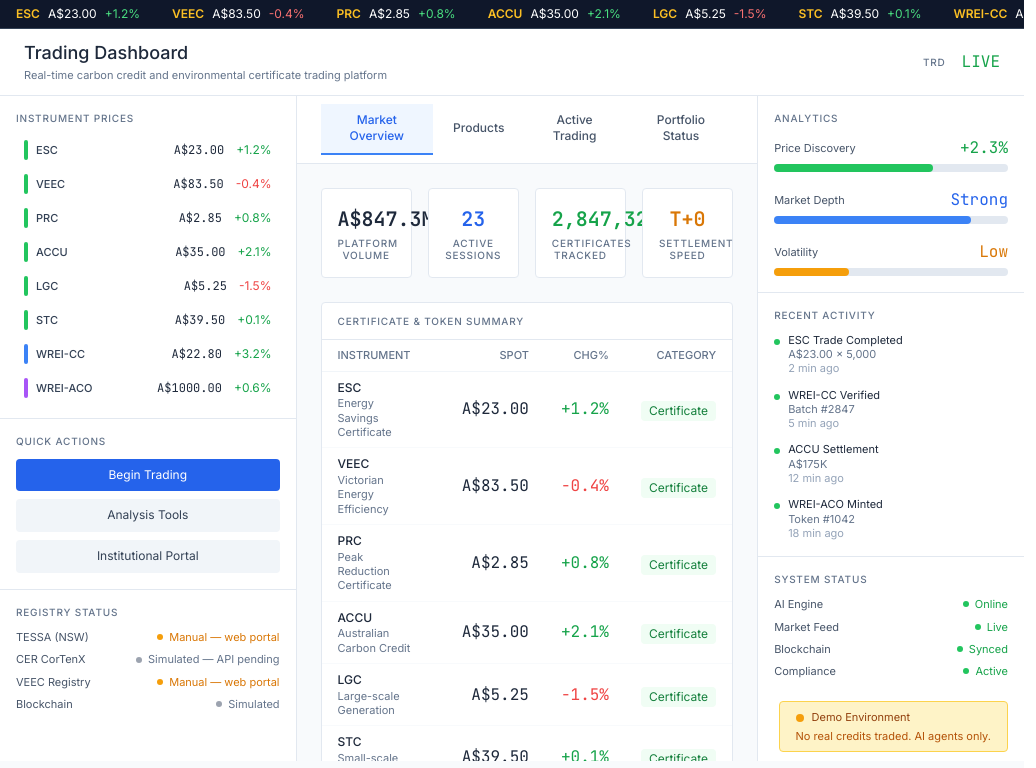
Test: Landing Page › tab navigation switches panel content
This screenshot has width=1036, height=768.
Expected: the text "PLATFORM VOLUME" is shown, [338,237,395,261]
# Click Active Trading tab
Click the button "Active Trading": (575, 130) [524,104,625,155]
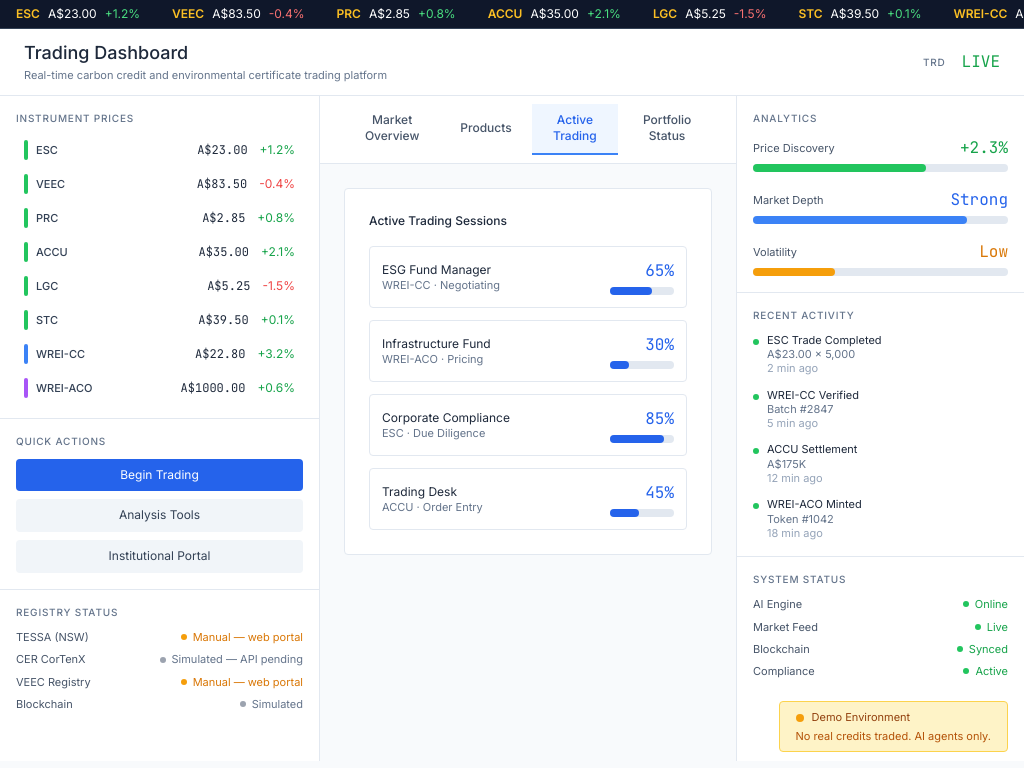
Now the heading "Active Trading Sessions" is shown, box [369,213,507,228]
# Click Portfolio Status tab
Click the button "Portfolio Status": (667, 130) [622,104,712,155]
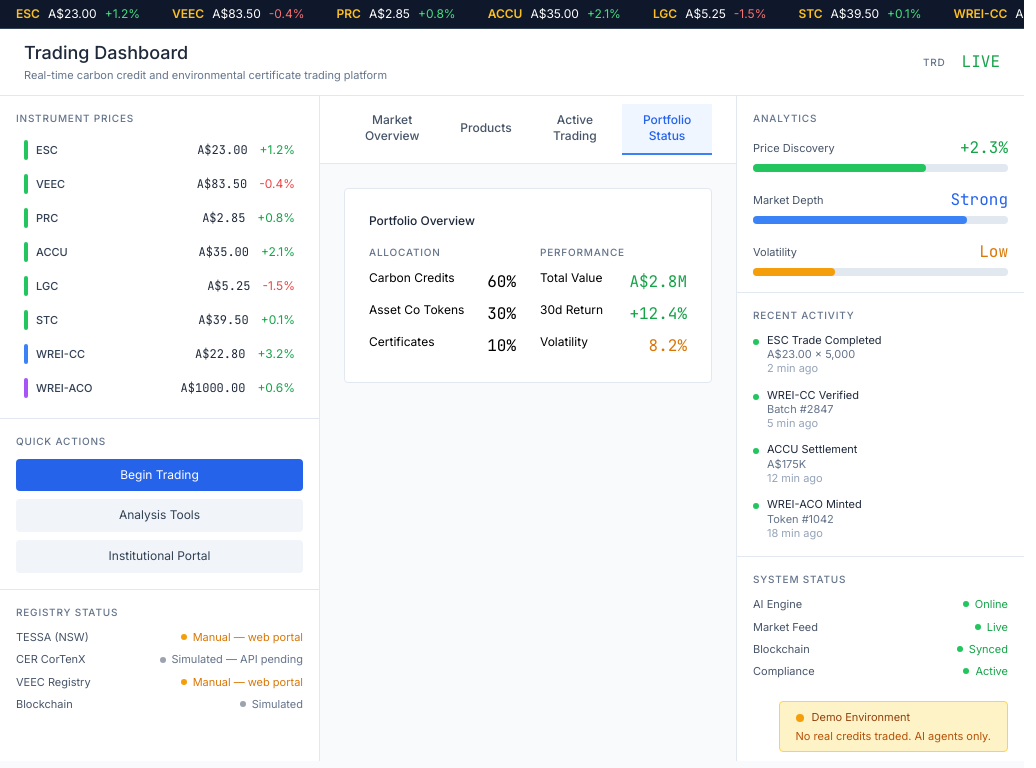
Now the heading "Portfolio Overview" is shown, box [369,213,475,228]
